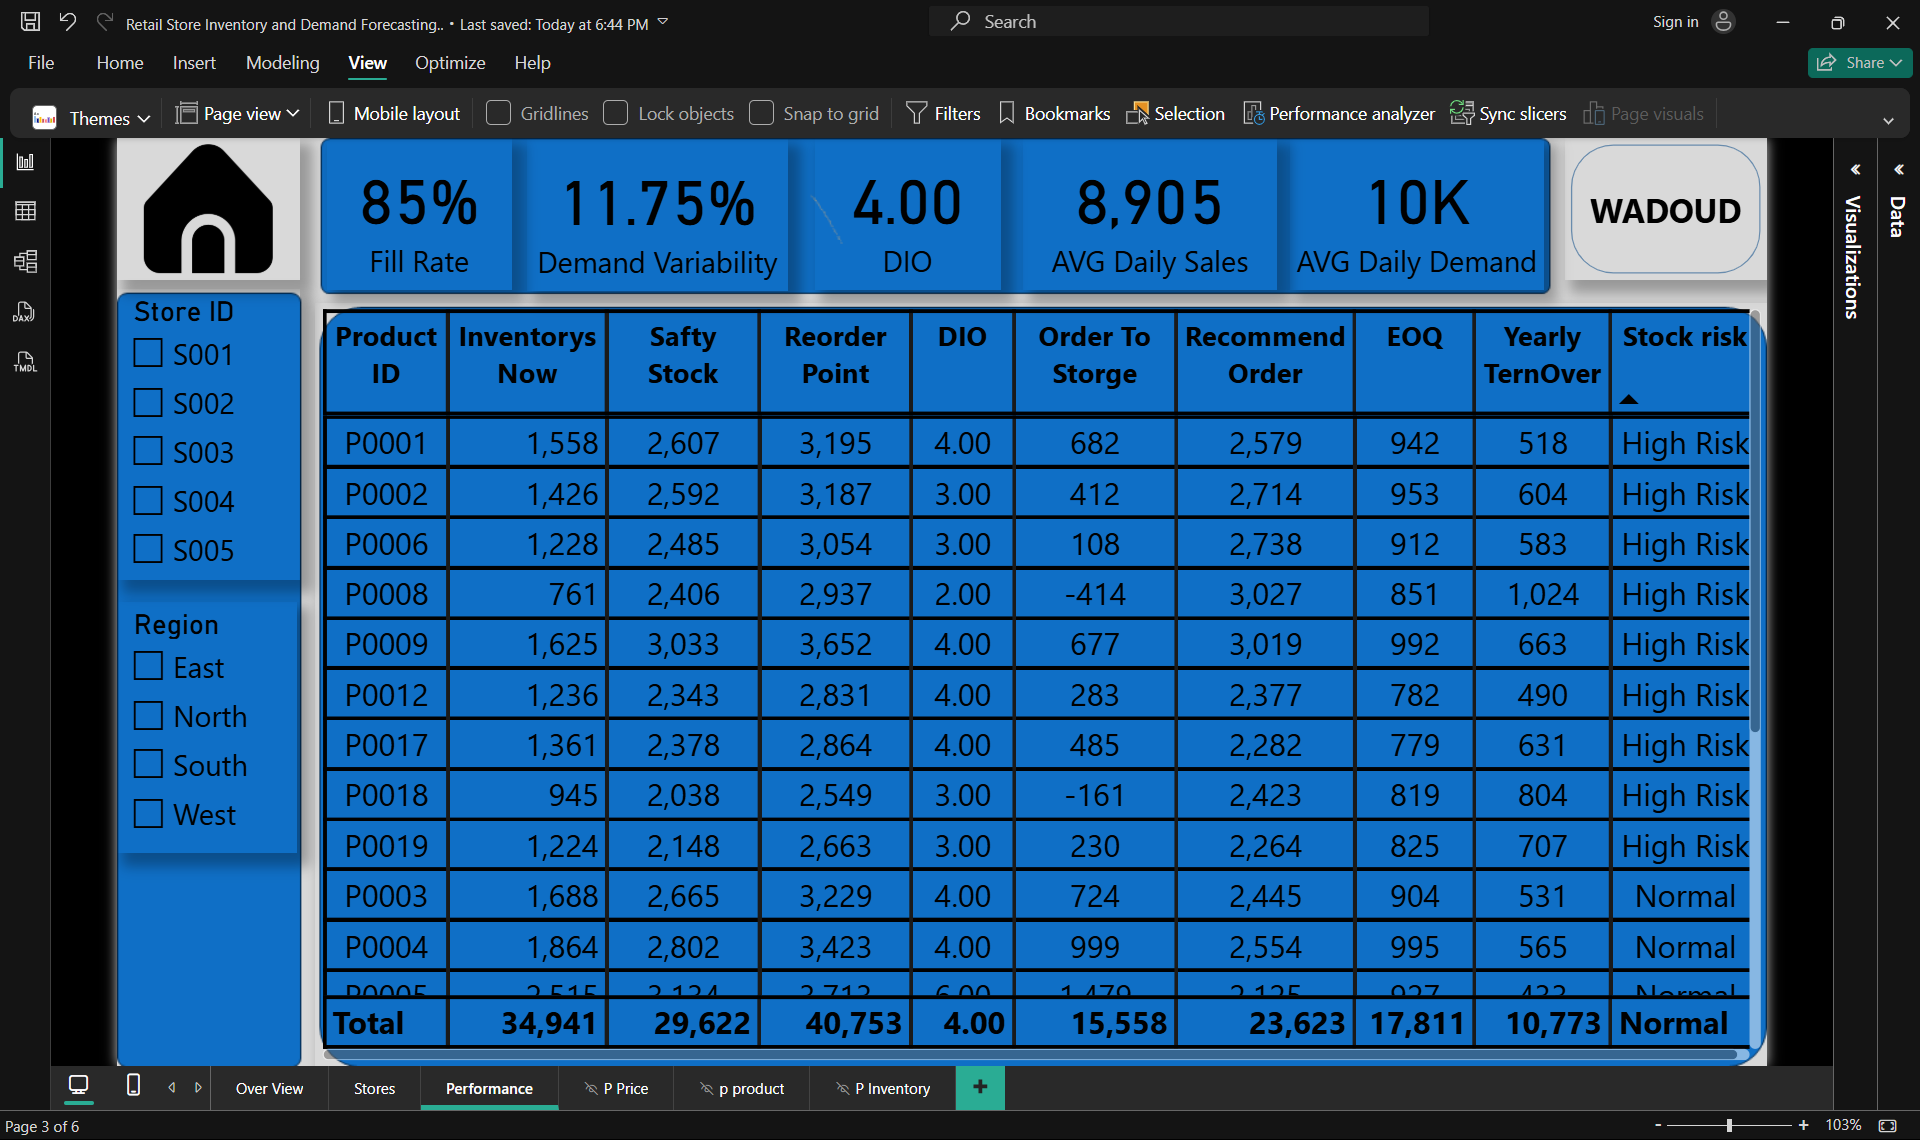

This screenshot's page, from the dashboard's own definition file:
{"tool":"powerbi","page":{"name":"Performance","canvas":[1280,720],"ordinal":2},"visuals":[{"type":"tableEx","fields":{"Values":["sales_data.Product_ID","sales_data.Inventorys Now","sales_data.Safty Stock","sales_data.Rorder Point","sales_data.Inventory Coverage","sales_data.Order To Storge","sales_data.Recommended Order","sales_data.EOQ","sales_data.Yearly TernOver","sales_data.Stock risk and over"]},"box":[153.1,127.6,1126.8,592.4],"z":0},{"type":"slicer","fields":{"Values":["sales_data.Store_ID"]},"box":[0,117.7,141.8,225.3],"z":1000},{"type":"slicer","fields":{"Values":["sales_data.Region"]},"box":[0,360,138.9,195.6],"z":2000},{"type":"card","fields":{"Values":["sales_data.Fill Rate"]},"box":[163.2,0,143.4,117.4],"z":3000},{"type":"card","fields":{"Values":["sales_data.AVG Daily Unit Demand"]},"box":[909.2,0,197.7,117.3],"z":4000},{"type":"card","fields":{"Values":["sales_data.AVG Daily Unit Sales"]},"box":[702.6,0,197,117.6],"z":5000},{"type":"card","fields":{"Values":["sales_data.DIO"]},"box":[540.7,0,144.6,117.6],"z":6000},{"type":"card","fields":{"Values":["sales_data.Demand Variability"]},"box":[318,1,202.7,117.4],"z":7000},{"type":"image","box":[0,0,141.8,110.1],"z":10000},{"type":"shape","box":[1122.8,0,157,110.1],"z":11000}]}

Visuals, with their boxes on the page's 1280x720 design canvas (x1, y1, x2, y2). These are canvas units, not pixel positions in the 1920x1140 screenshot, which may show the page scaled, cropped or inside an application window:
tableEx - sales_data.Product_ID x sales_data.Inventorys Now: x1=153, y1=128, x2=1280, y2=720
slicer - sales_data.Store_ID: x1=0, y1=118, x2=142, y2=343
slicer - sales_data.Region: x1=0, y1=360, x2=139, y2=556
card - sales_data.Fill Rate: x1=163, y1=0, x2=307, y2=117
card - sales_data.AVG Daily Unit Demand: x1=909, y1=0, x2=1107, y2=117
card - sales_data.AVG Daily Unit Sales: x1=703, y1=0, x2=900, y2=118
card - sales_data.DIO: x1=541, y1=0, x2=685, y2=118
card - sales_data.Demand Variability: x1=318, y1=1, x2=521, y2=118
image: x1=0, y1=0, x2=142, y2=110
shape: x1=1123, y1=0, x2=1280, y2=110
